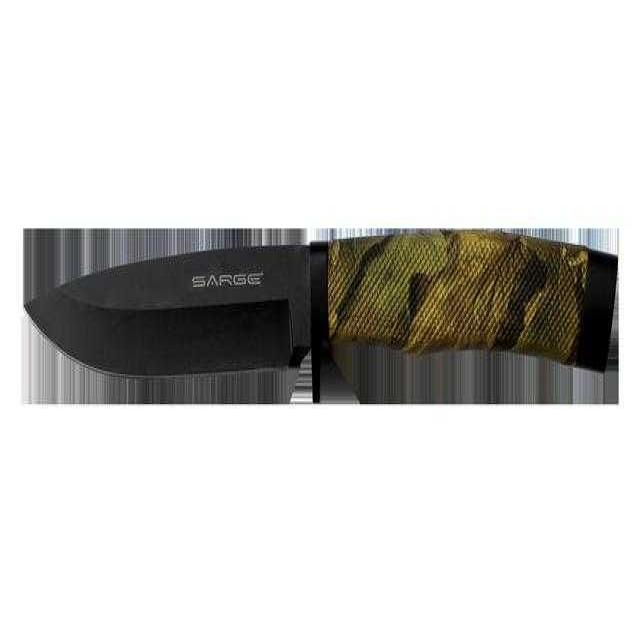weapon: (24, 232, 618, 392)
